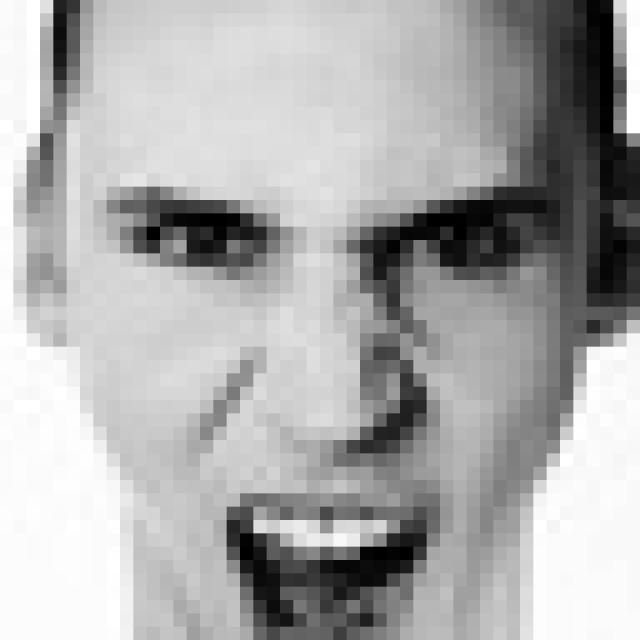angry: (105, 171, 574, 640)
